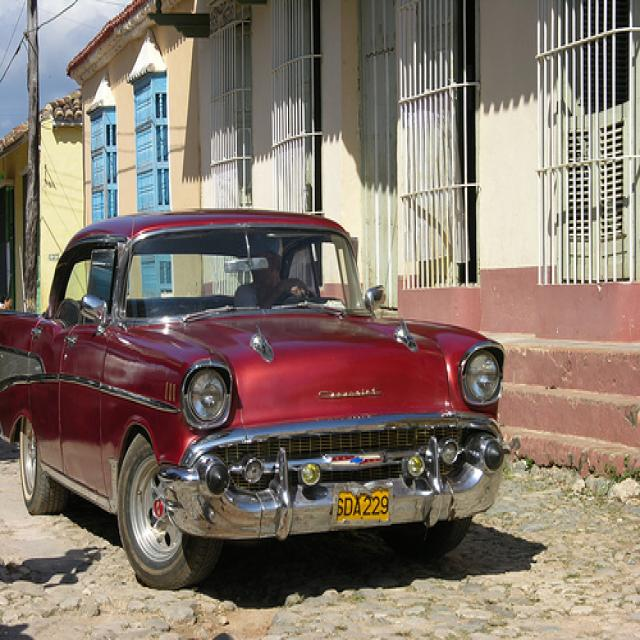light_vehicle: (0, 205, 508, 592)
